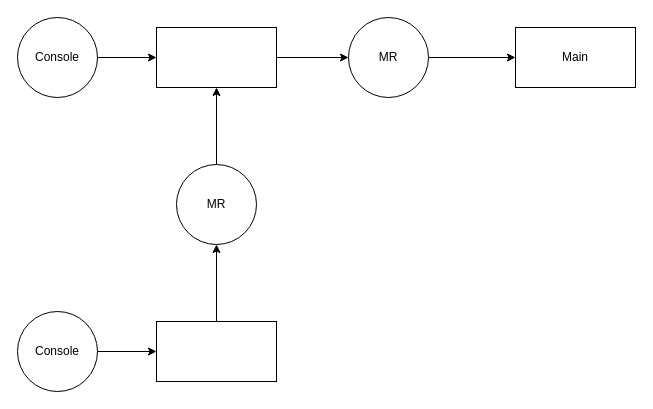
Some shapes in this 653 by 409 pixel diagram are drawn without their labels. The box of each missing label's shape, as (x1, y1, x2, y2) in pixels:
Dev: (156, 26, 276, 88)
Staging: (156, 320, 276, 382)
